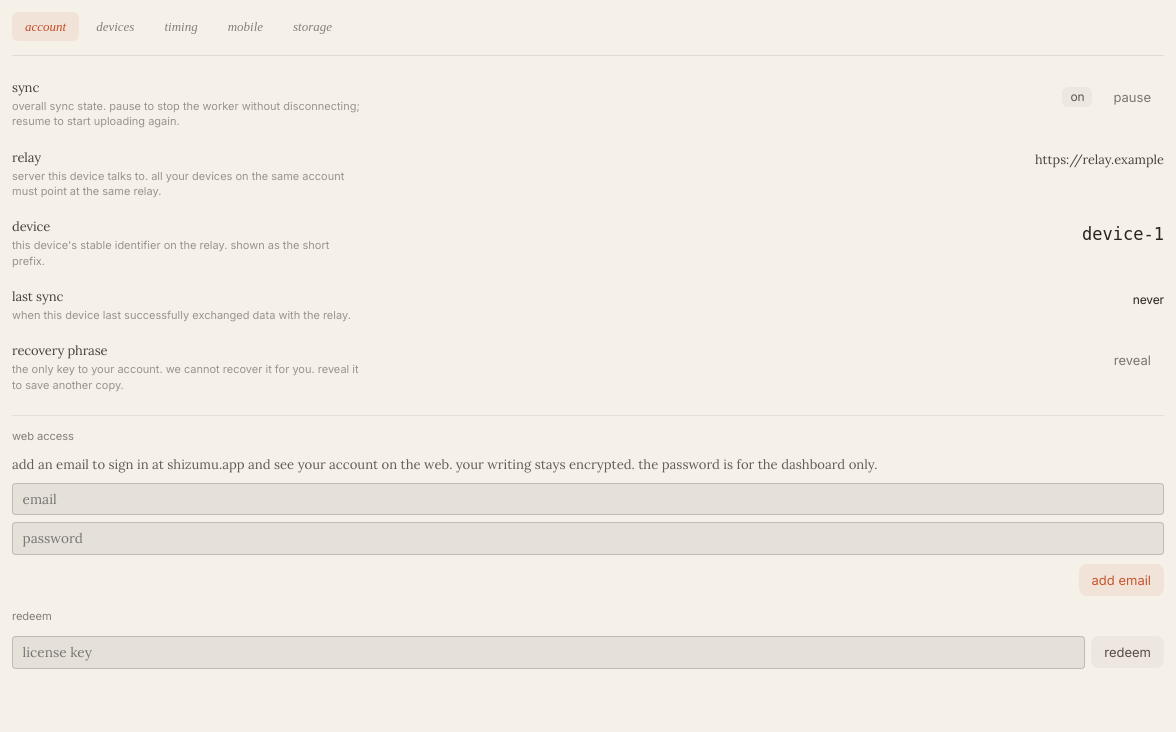
it: SyncSettings › storage tab › counts the attachments whose bytes are not here
Click the button with class "sync-tab" showing "storage".
click(312, 26)  # box left=280, top=12, right=345, bottom=41
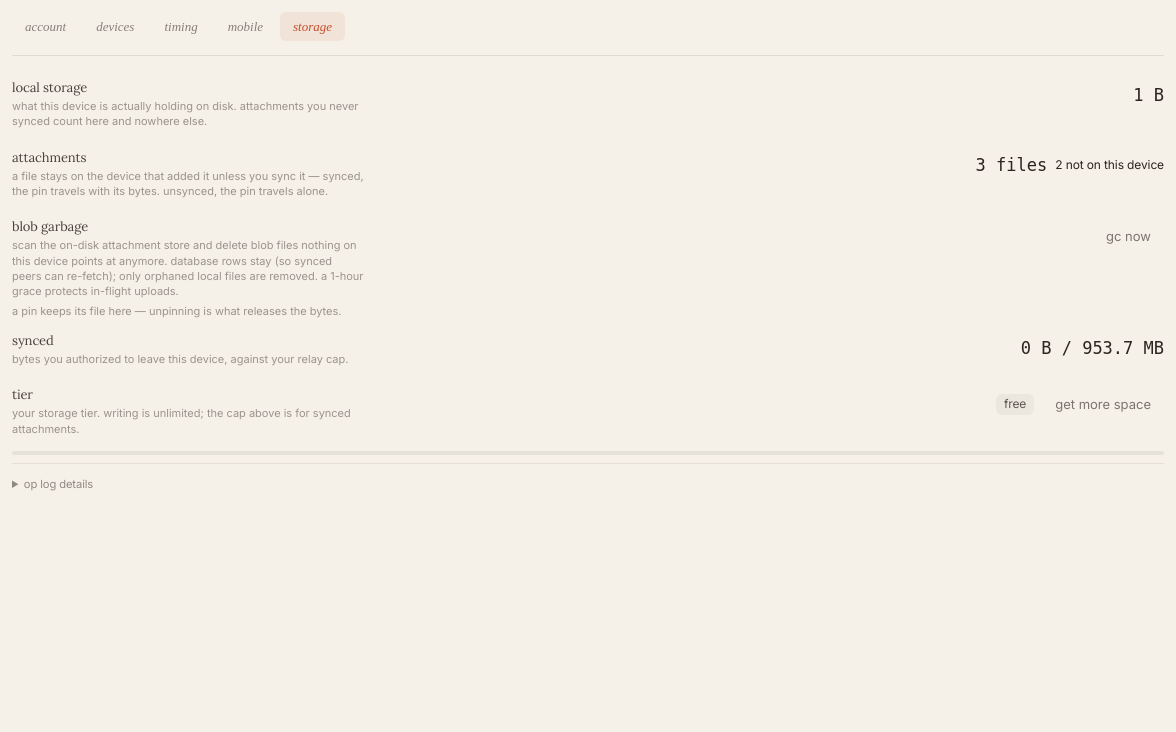
Result: the text "3 files" is shown at left=976, top=151, right=1047, bottom=180
Result: the text "2 not on this device" is shown at left=1055, top=155, right=1164, bottom=175
